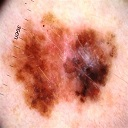Melanoma: (23, 29, 107, 105)
